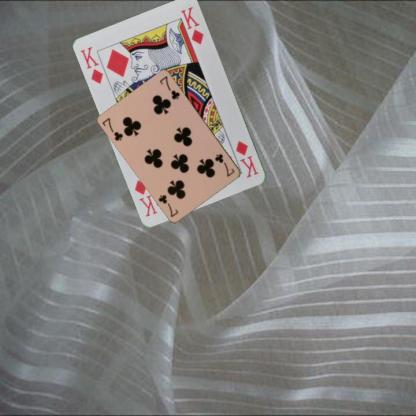7c: (212, 151, 236, 178), (100, 115, 124, 142)
Kd: (233, 138, 260, 179), (78, 44, 105, 85)
